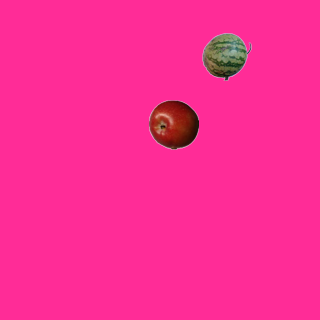Apple Braeburn: (148, 99, 198, 149)
Watermelon: (201, 31, 251, 81)
